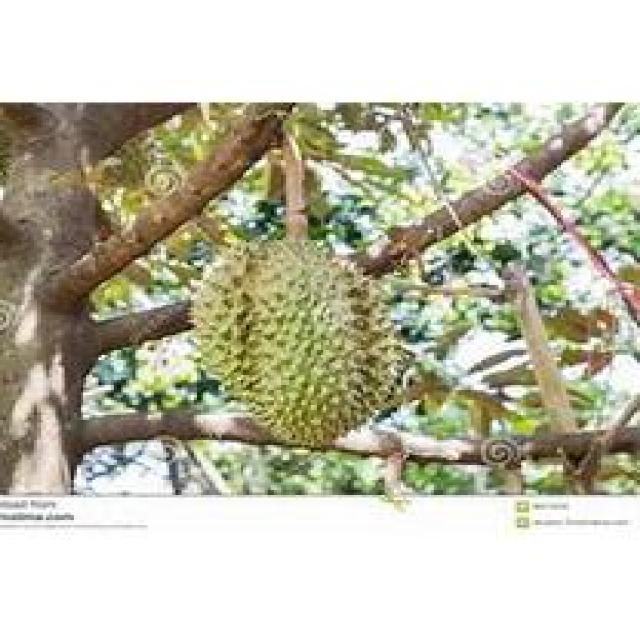non_orange: (184, 225, 418, 453)
